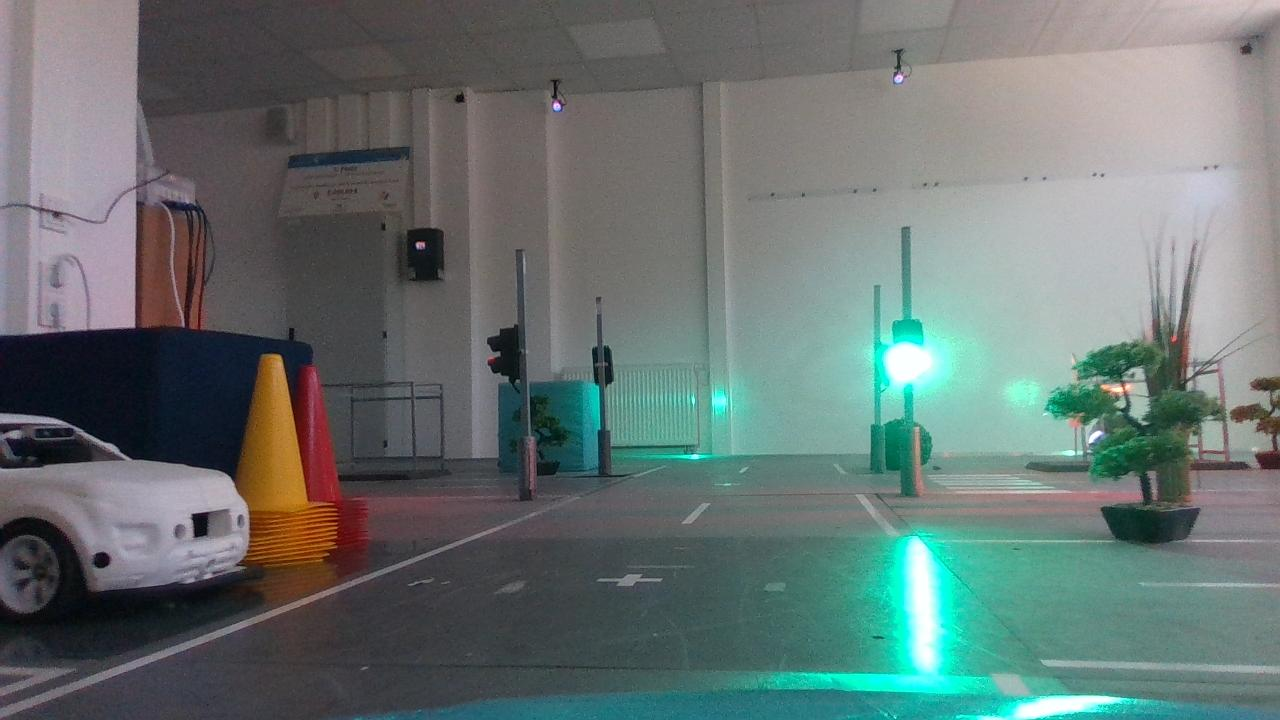traffic_light_green: (883, 307, 946, 395)
